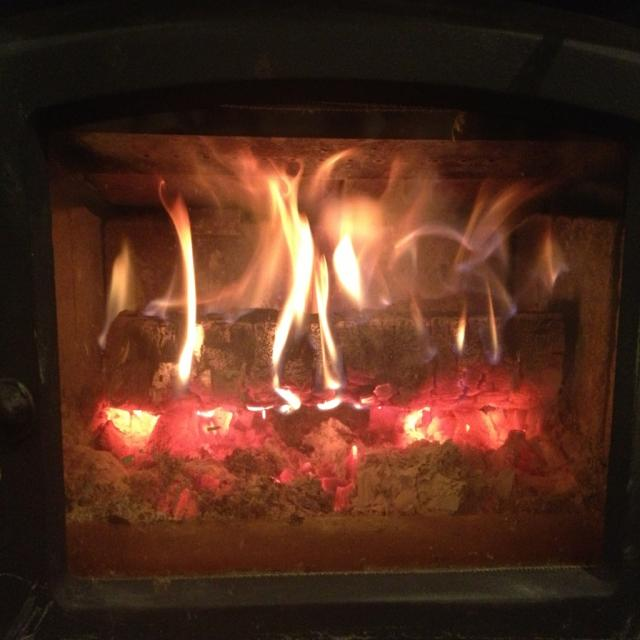fire: (104, 173, 578, 455)
